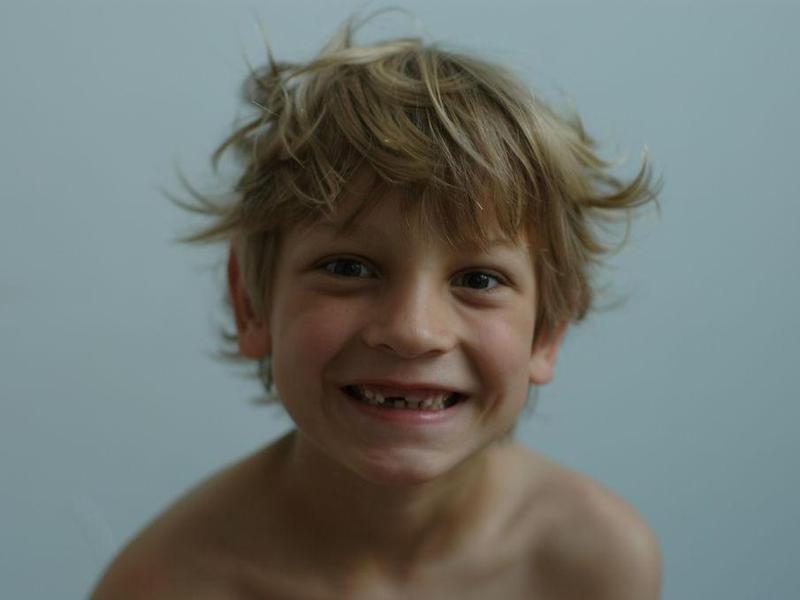person: (71, 43, 665, 600)
